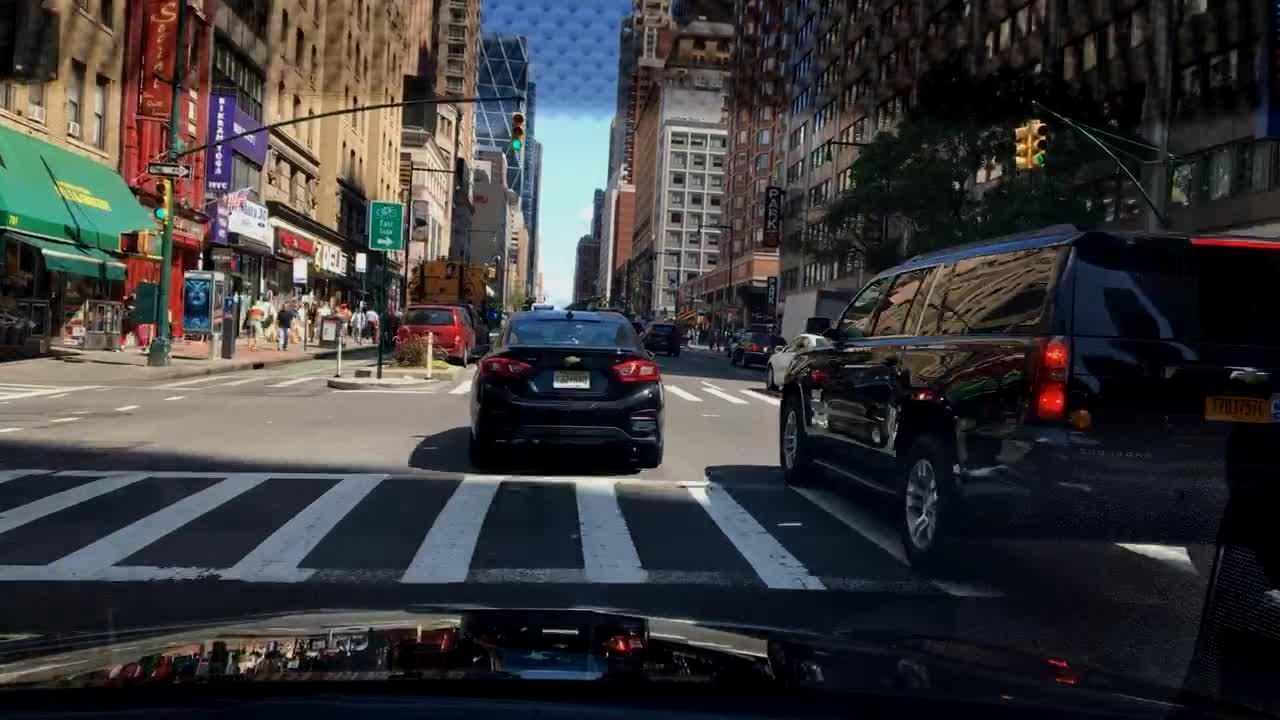chevrolet: (1209, 357, 1280, 398), (557, 350, 585, 366)
